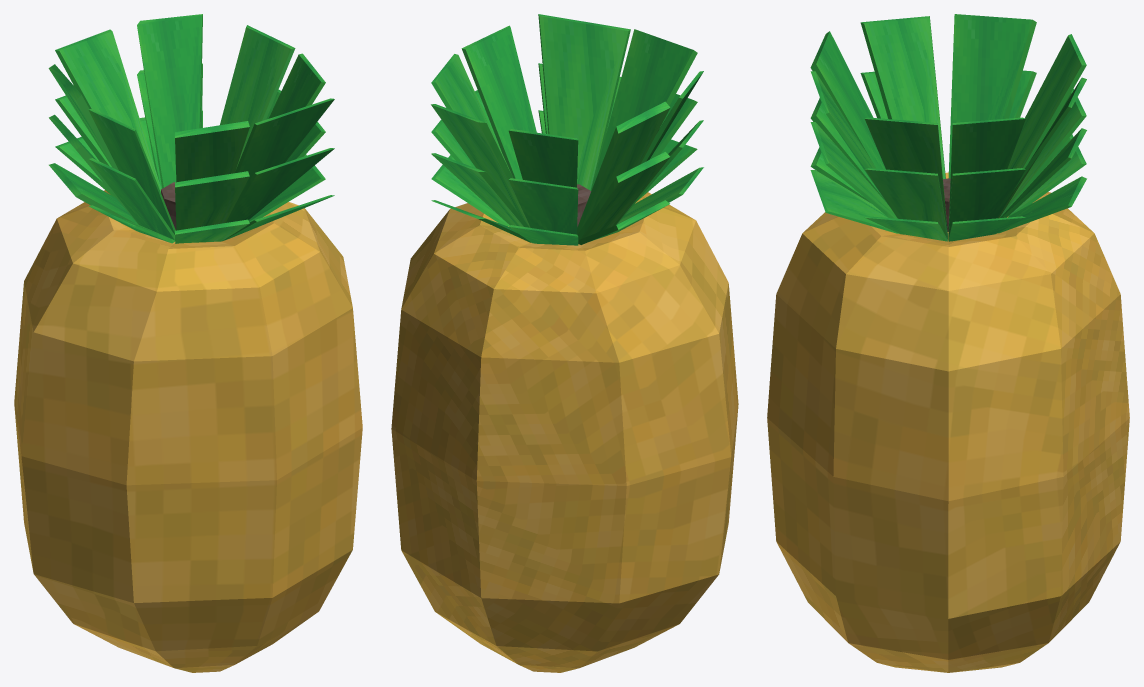
Rendered from FoolsPineapple.fbx.
3 renders of one model, left to right at view 1: azimuth 30°, elevation 25°; view 2: azimuth 150°, elevation 25°; view 3: azimuth 270°, elevation 25°, orthographic. The views are drawn at different scales.
Parts seen in each view (by area): view 1: FoolsPineapple; view 2: FoolsPineapple; view 3: FoolsPineapple.
Part boxes in pixels (x1,y1,x2,y2): FoolsPineapple: [14, 14, 362, 672]; FoolsPineapple: [391, 14, 738, 672]; FoolsPineapple: [767, 14, 1129, 672].
Bounding box in the file's own units: 319 × 526 × 293.
